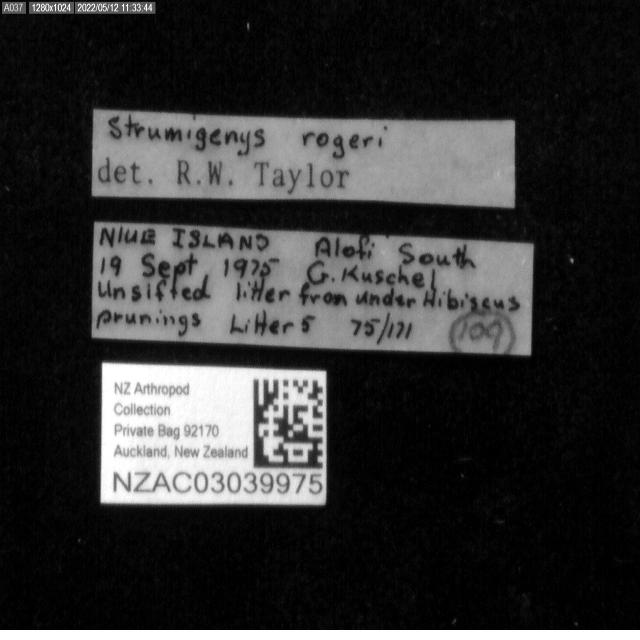hand_label: (91, 222, 534, 355)
mixed_label: (92, 109, 515, 208)
typed_label: (100, 362, 326, 505)
